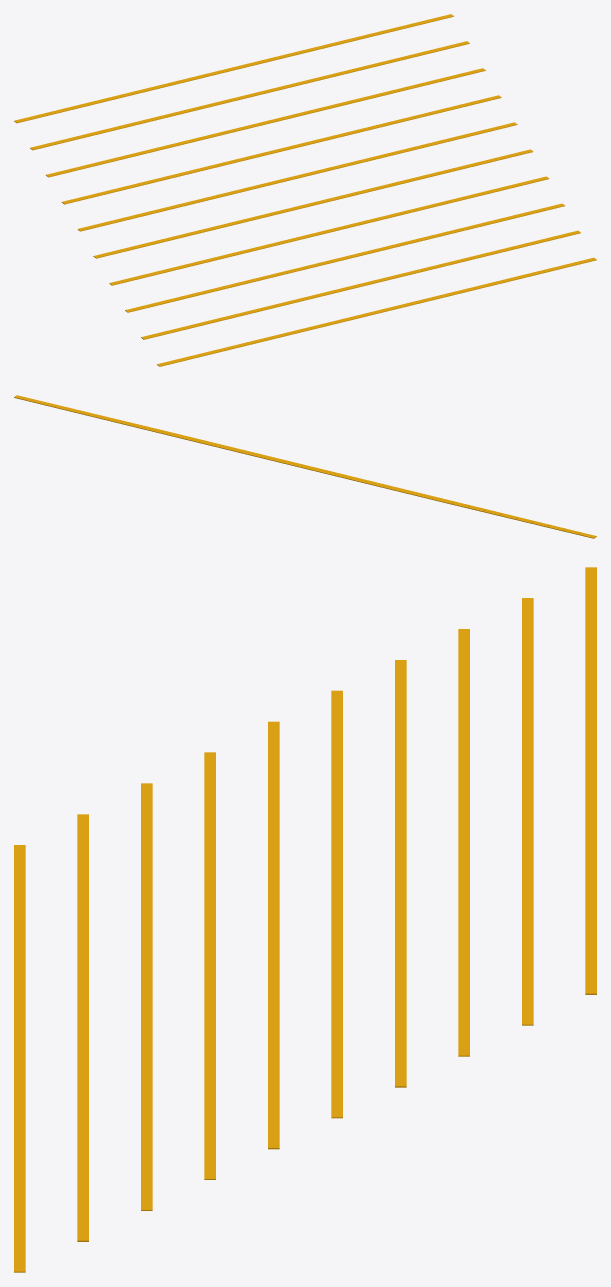
File: gteki_ik_stair_n10_r162_t302_w4817_nosing.glb
3 views of the same model, one above another, from view 1: azimuth 30°, elevation 25°; view 2: azimuth 150°, elevation 25°; view 3: azimuth 270°, elevation 25° (orthographic). The views are drawn at different scales.
Visible parts, largest first — view 1: VIS_body; view 2: VIS_body; view 3: VIS_body.
Boxes of the visible parts, <box> form: VIS_body: <box>14,14,596,366</box>; VIS_body: <box>14,395,596,538</box>; VIS_body: <box>14,567,596,1272</box>.
Size of the model in its own units: 4.8 by 1.46 by 2.77.
1 material, 1 textured.
